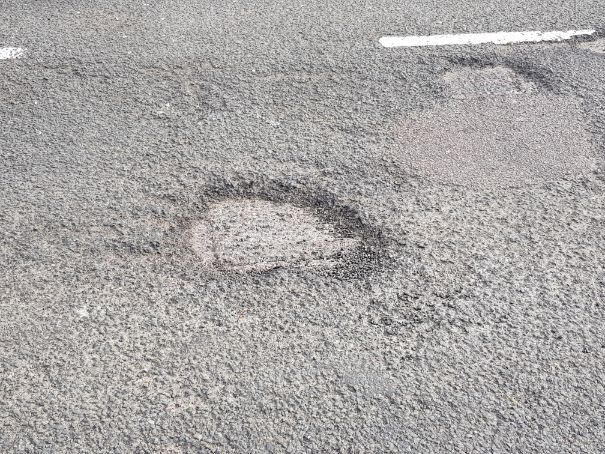pothole: (164, 169, 397, 290), (430, 50, 550, 95), (573, 27, 605, 52)
